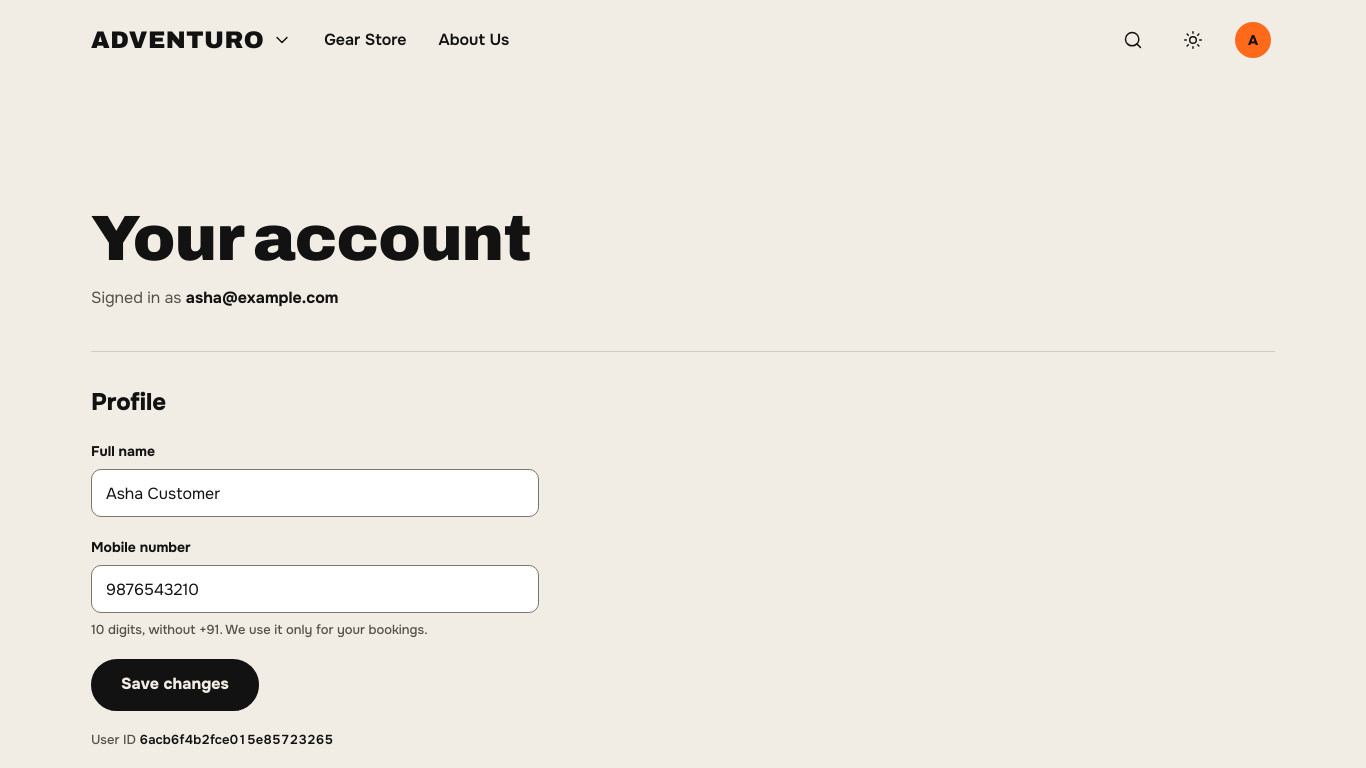
Test: AccountPage › saves an edited name and phone and confirms it
expect the heading "Your account" is shown: met, box [91, 204, 531, 273]
Replace the text in the field labelled "Full name" with "Asha Rao" at (315, 493), box [91, 469, 539, 517]
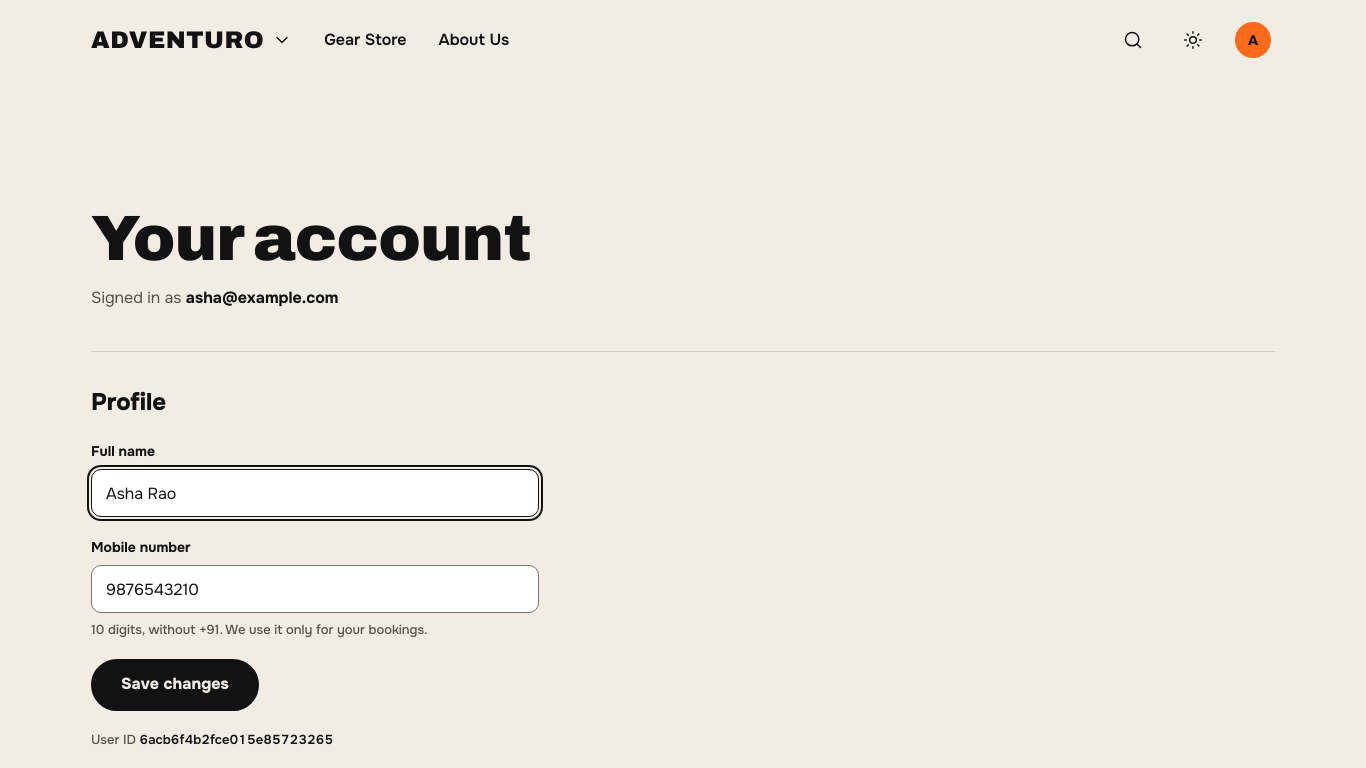
Replace the text in the field labelled "Mobile number" with "9123456780" at (315, 589), box [91, 565, 539, 613]
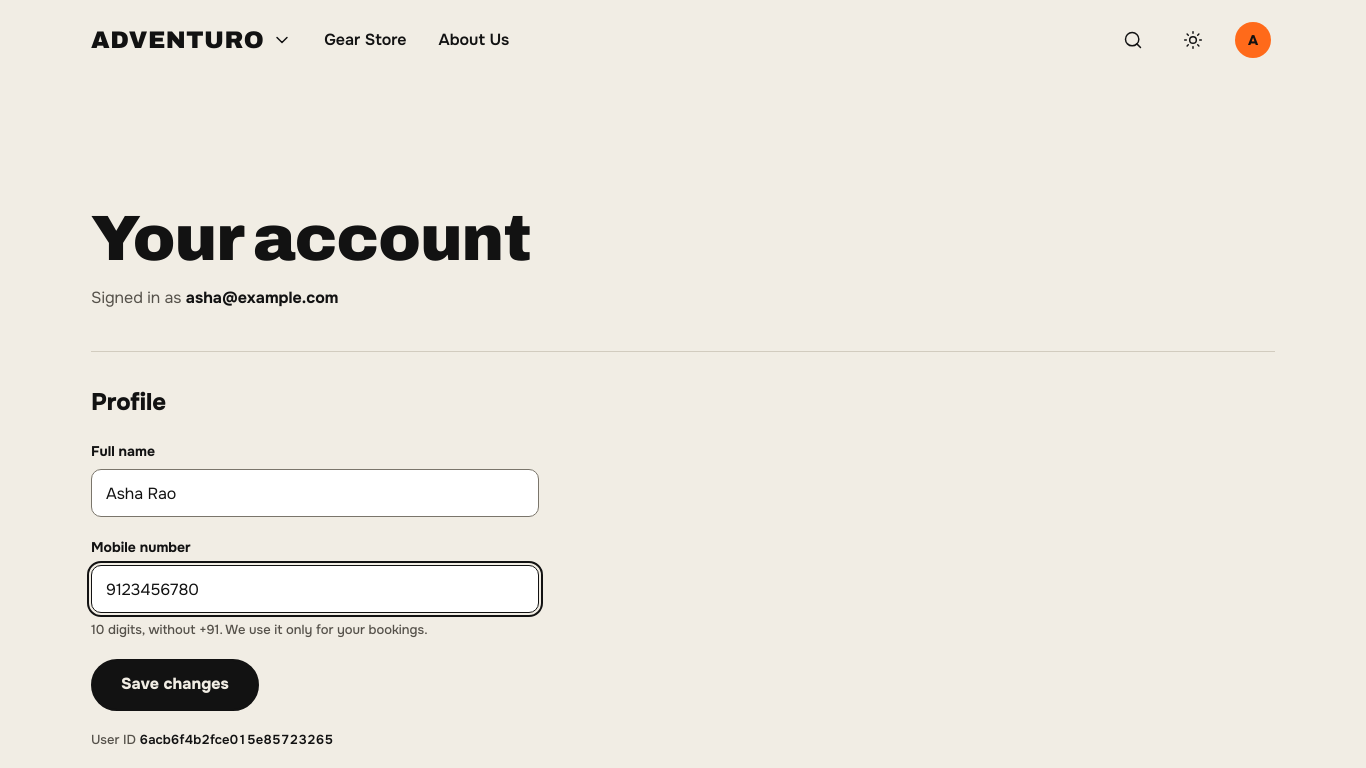
Click the button "Save changes" at (175, 685), box [91, 659, 259, 711]
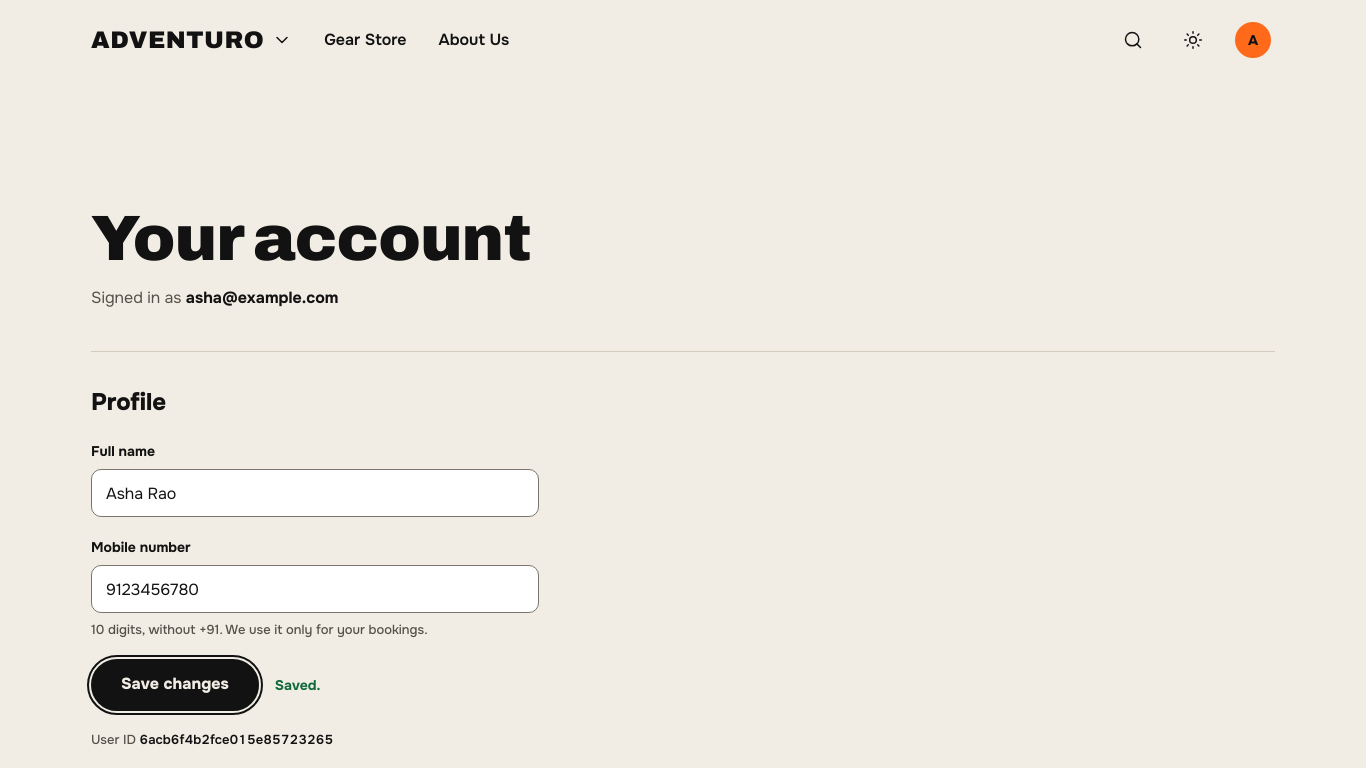
expect the message reads "Saved.": met, box [275, 676, 321, 694]
